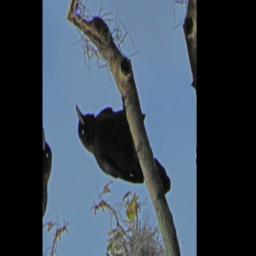Crow: (73, 59, 173, 238)
